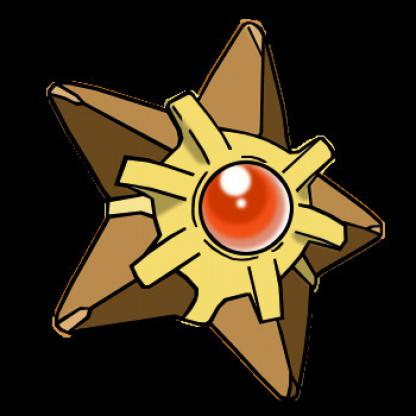Staryu: (37, 16, 385, 401)
